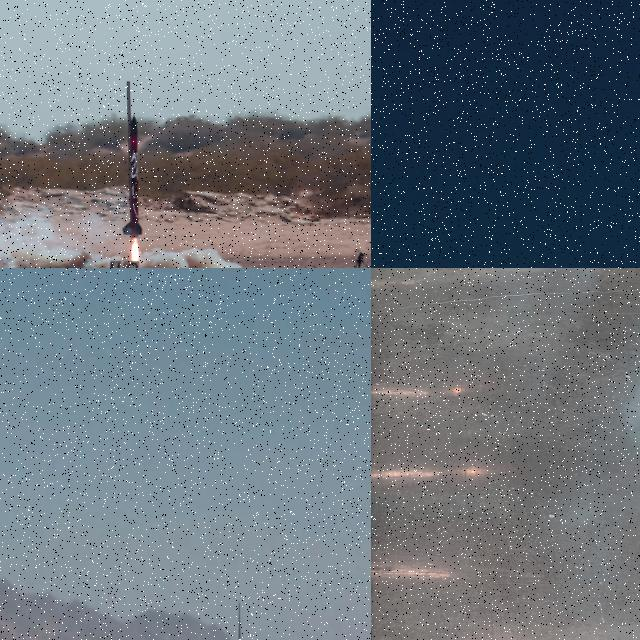Rocket: (121, 113, 143, 240), (235, 599, 245, 640)
